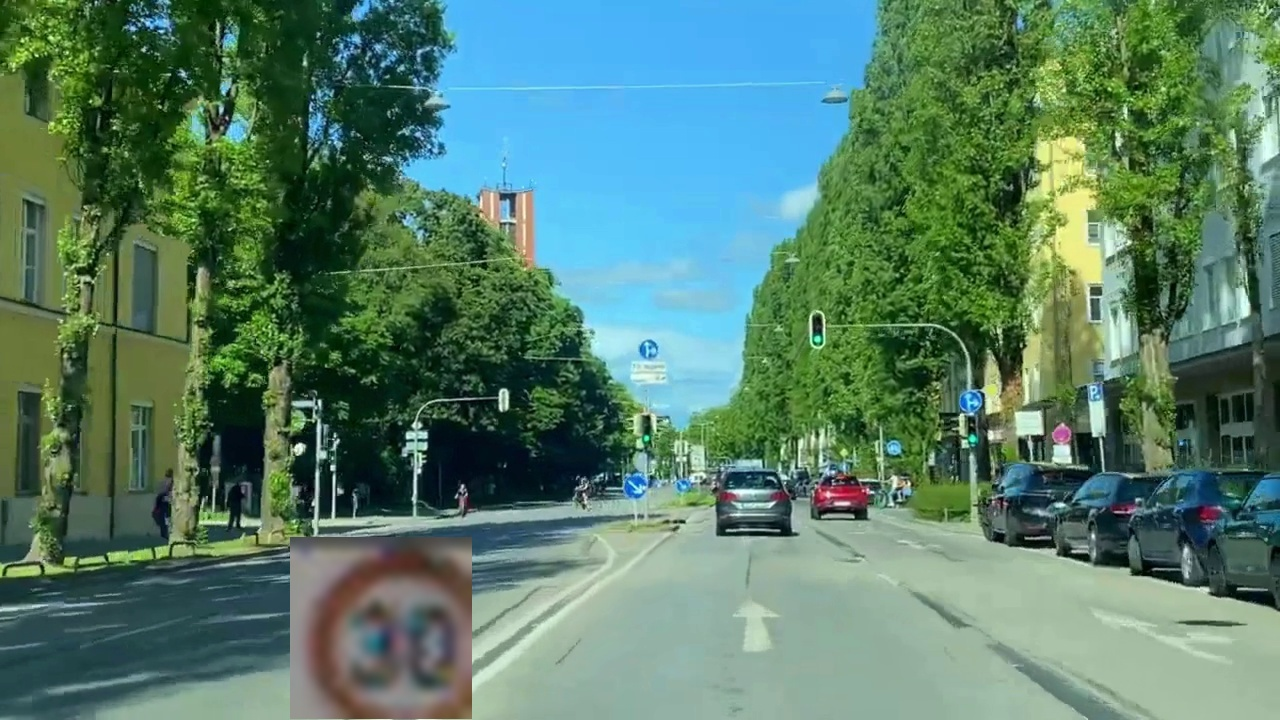Speed 30: (290, 537, 472, 719)
